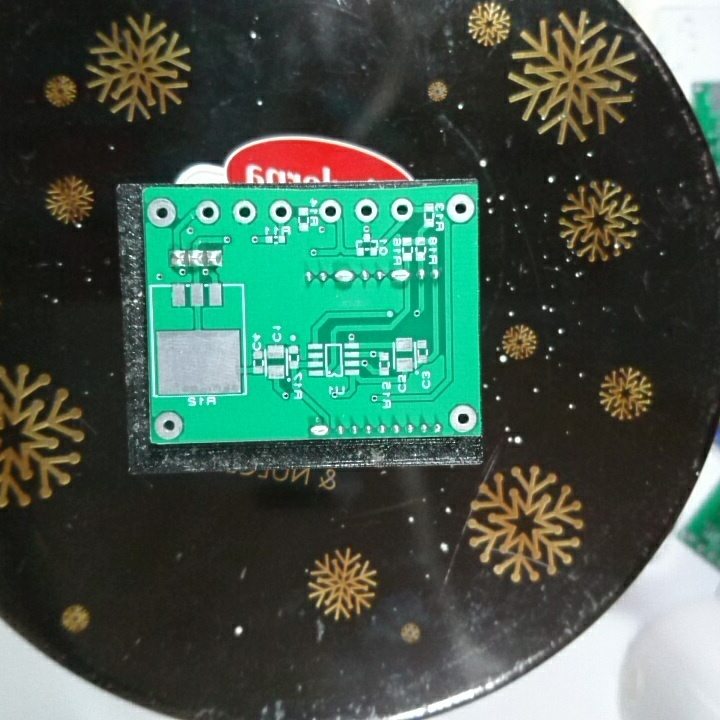F: (444, 193, 476, 225), (448, 403, 479, 436), (153, 410, 185, 441), (145, 198, 179, 227), (267, 199, 294, 226), (231, 199, 257, 226), (194, 200, 221, 226), (353, 197, 379, 223), (388, 197, 413, 223), (318, 199, 342, 223)
P: (332, 266, 356, 287), (306, 422, 332, 439), (388, 266, 411, 284)
